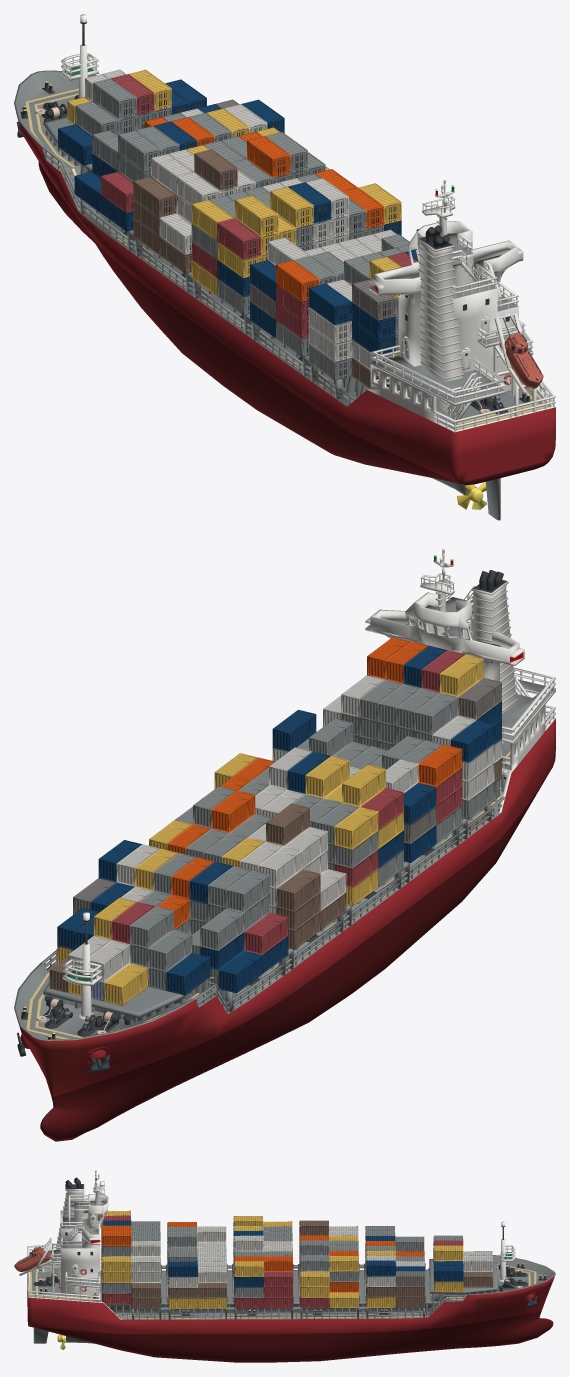
File: ship.glb
3 views of the same model, one above another, from view 1: azimuth 30°, elevation 25°; view 2: azimuth 150°, elevation 25°; view 3: azimuth 270°, elevation 25° (orthographic). The views are drawn at different scales.
Parts seen in each view (by area): view 1: 船舶; view 2: 船舶; view 3: 船舶.
Part boxes in pixels (bbox=[...]): 船舶: bbox=[14, 14, 555, 520]; 船舶: bbox=[14, 549, 555, 1141]; 船舶: bbox=[14, 1170, 555, 1362].
Size of the model in its own units: 40.71 by 73.85 by 204.
Materials: 1 (1 with a texture image).
